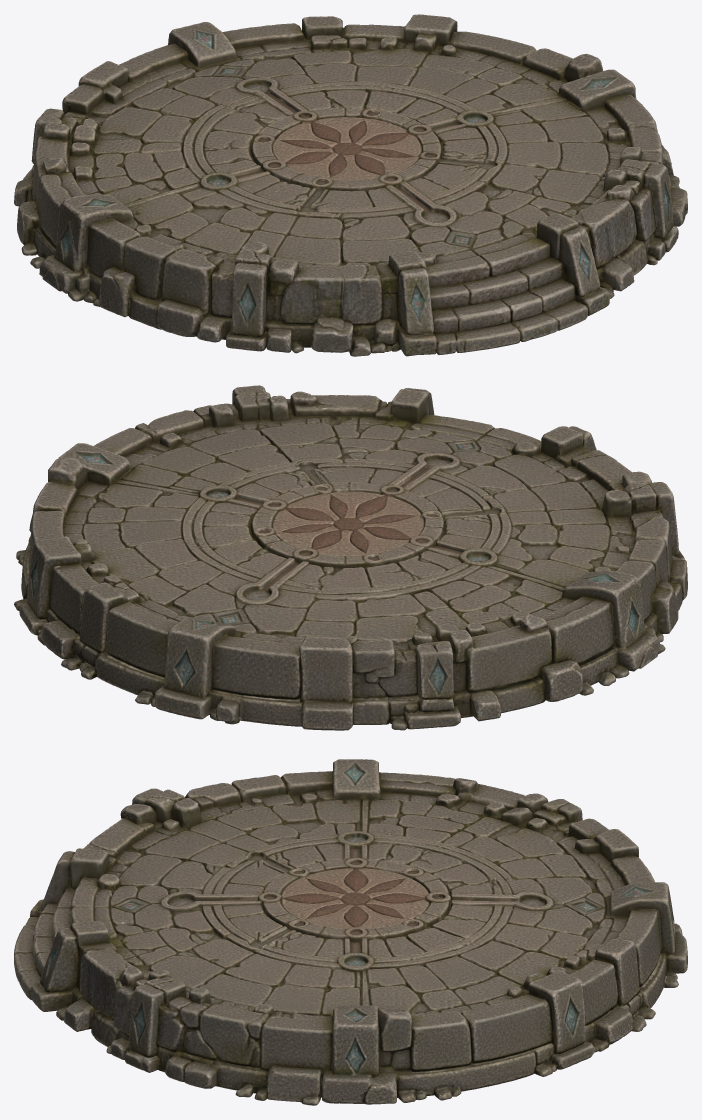
File: 闘技場.fbx
3 views of the same model, one above another, from view 1: azimuth 30°, elevation 25°; view 2: azimuth 150°, elevation 25°; view 3: azimuth 270°, elevation 25° (orthographic). The views are drawn at different scales.
Parts seen in each view (by area): view 1: stone circular platform 3d model; view 2: stone circular platform 3d model; view 3: stone circular platform 3d model.
Part boxes in pixels (x1=…): stone circular platform 3d model: x1=14, y1=14, x2=687, y2=356; stone circular platform 3d model: x1=14, y1=385, x2=687, y2=730; stone circular platform 3d model: x1=14, y1=759, x2=687, y2=1105.
Bounding box in the file's own units: 98.14 × 12.77 × 98.03.
1 material, 1 textured.
